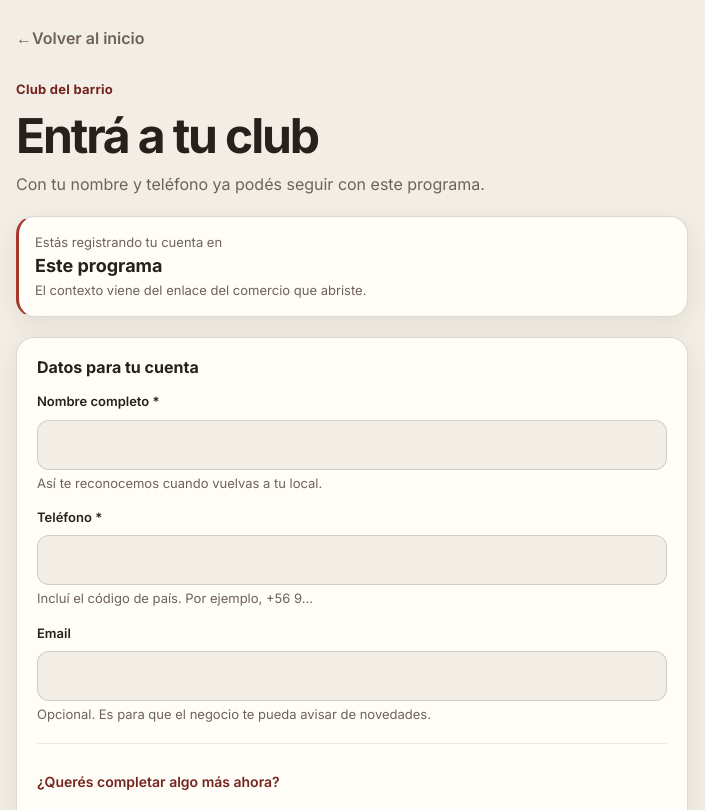
Test case: registration behavior › rejects an empty name without making a network request
In the field labelled "Teléfono *": (352, 560) x1=37 y1=535 x2=667 y2=585, type "+56 9 1234 5678"
(page scrolled)
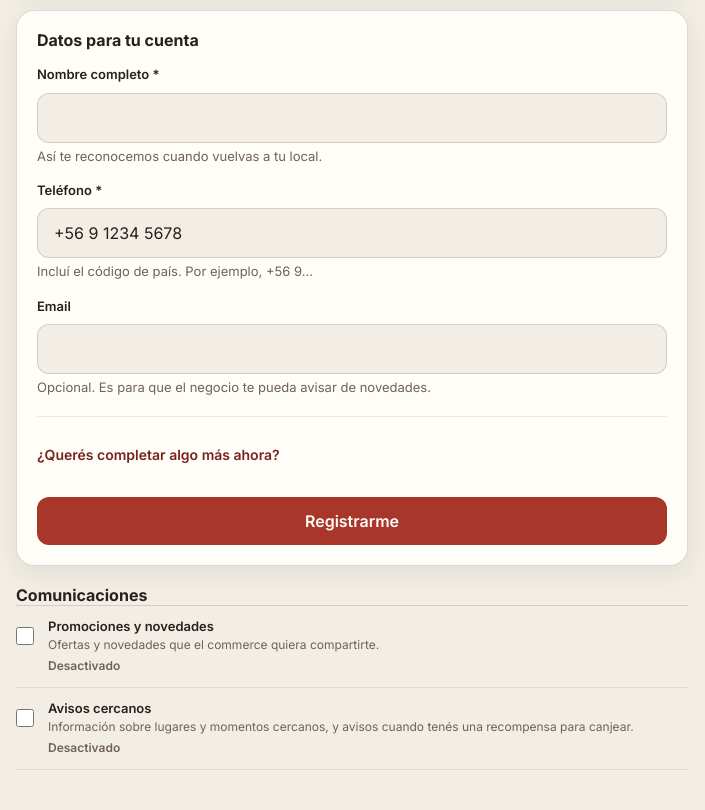
Click the button "Registrarme": (352, 521) x1=37 y1=497 x2=667 y2=545
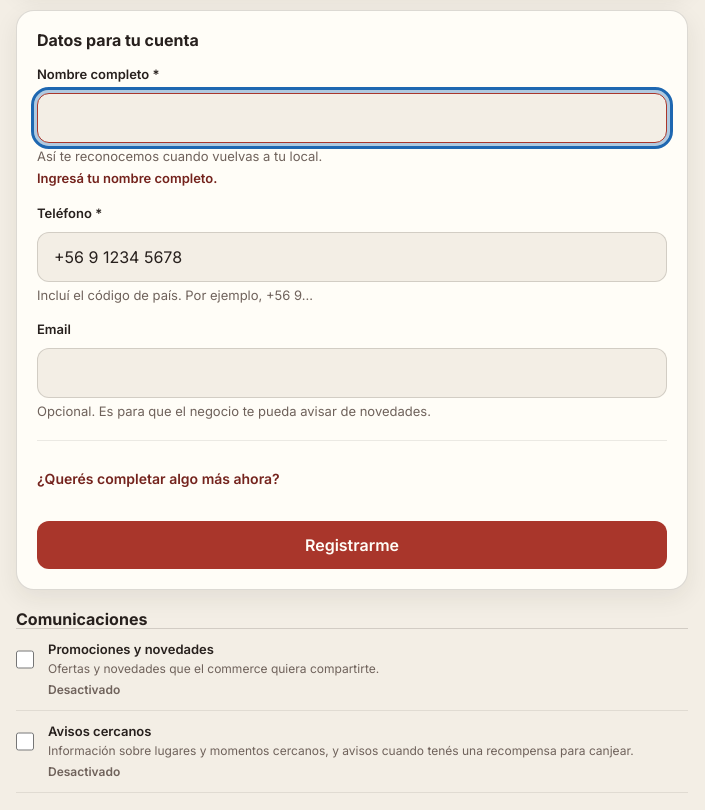
Expected: the text "Ingresá tu nombre completo." is shown, x1=37 y1=170 x2=217 y2=186
